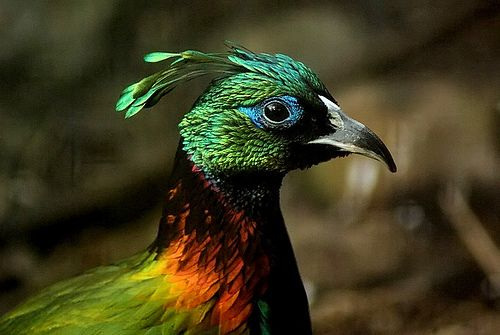bird: (1, 37, 418, 335)
